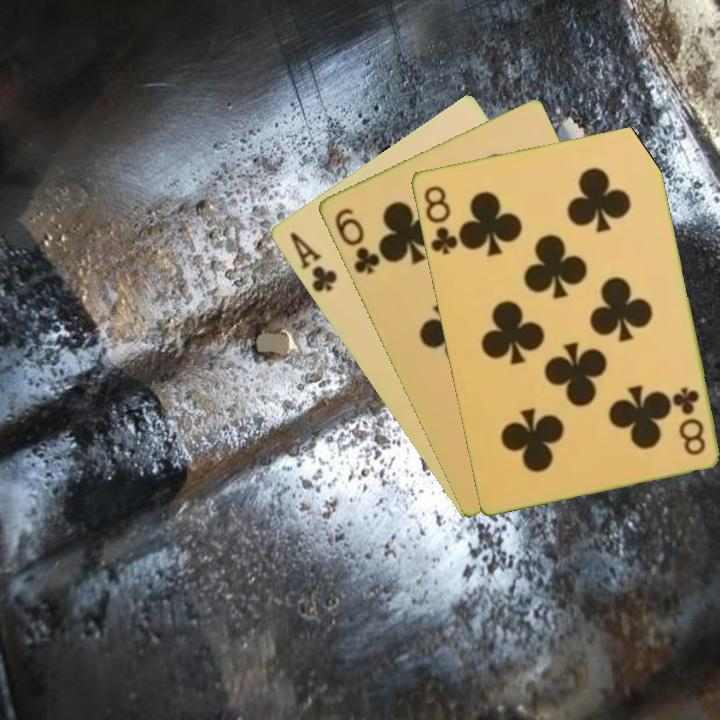6c: (330, 204, 382, 278)
8c: (419, 181, 460, 258), (669, 383, 708, 458)
Ac: (285, 228, 340, 295)
